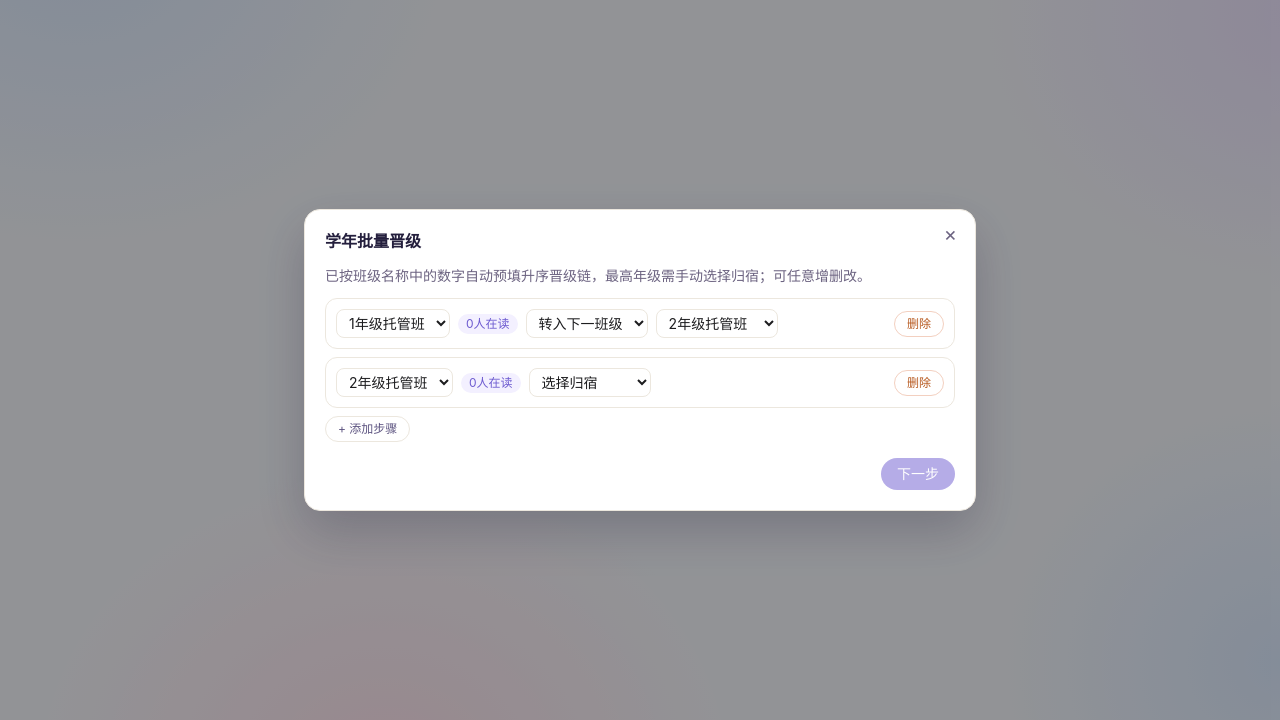
Scenario: AnnualPromotionWizard › hides and clears the target unit select when switching outcome away from 转入下一班级
This screenshot has width=1280, height=720.
Expected: the dropdown named "目标班级" is shown, x1=656 y1=309 x2=778 y2=338
Select "停用" in the 1st dropdown named "归宿": (587, 324) x1=526 y1=309 x2=648 y2=338
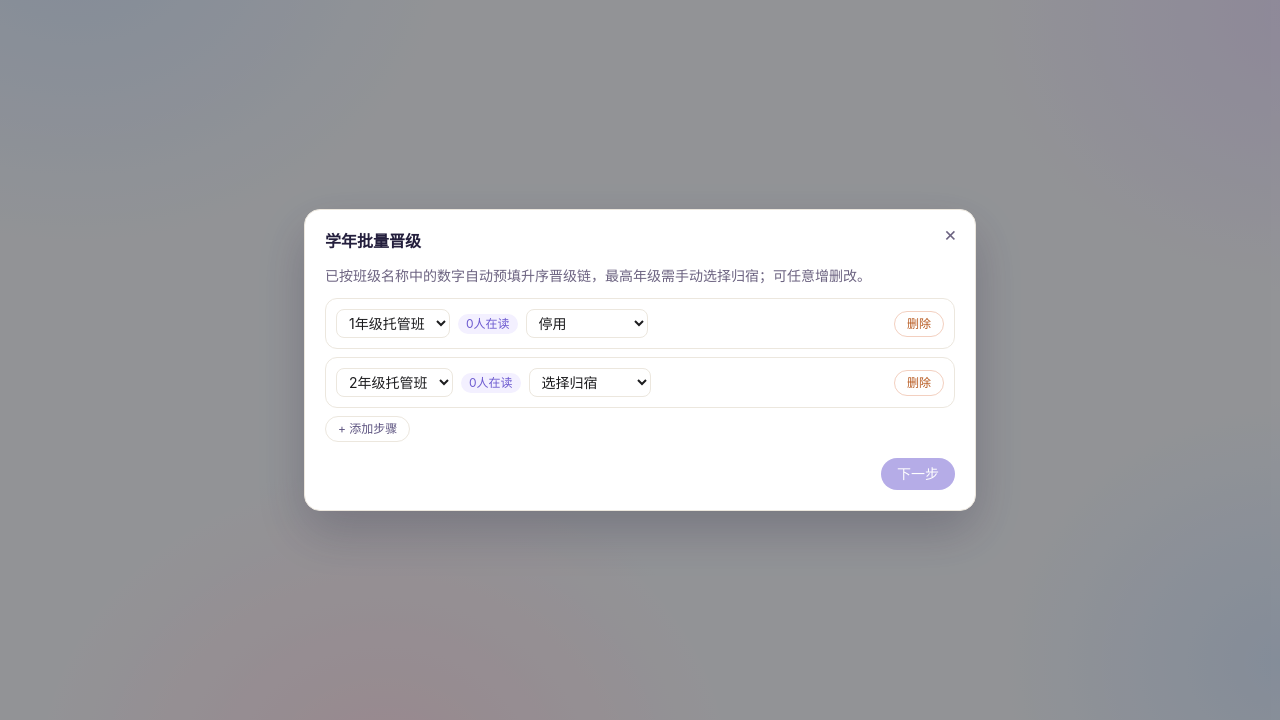
Now the dropdown labelled "目标班级" is gone
